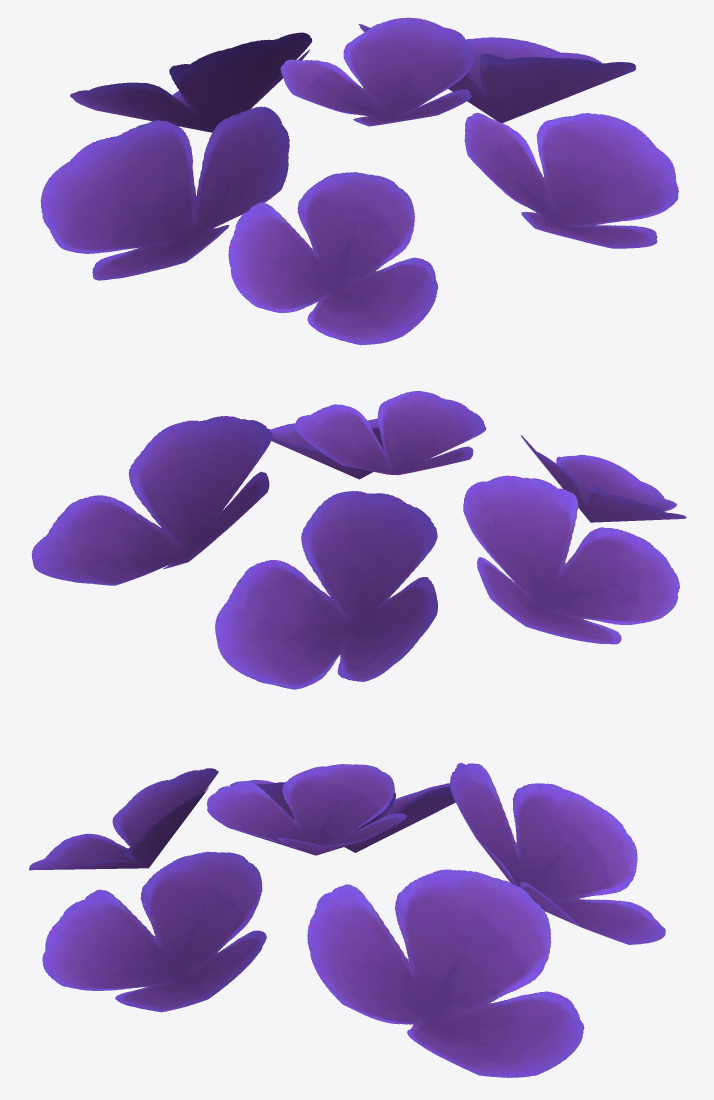
Rendered from Plant_7.gltf.
3 renders of one model, top to bottom at view 1: azimuth 30°, elevation 25°; view 2: azimuth 150°, elevation 25°; view 3: azimuth 270°, elevation 25°, orthographic. The views are drawn at different scales.
Parts seen in each view (by area): view 1: Plant_7; view 2: Plant_7; view 3: Plant_7.
Boxes of the visible parts, x1,y1,x2,y2 form: Plant_7: (40,17,678,345); Plant_7: (31,391,686,689); Plant_7: (29,763,665,1077).
Size of the model in its own units: 1.05 by 0.2494 by 0.9621.
1 material, 1 textured.
